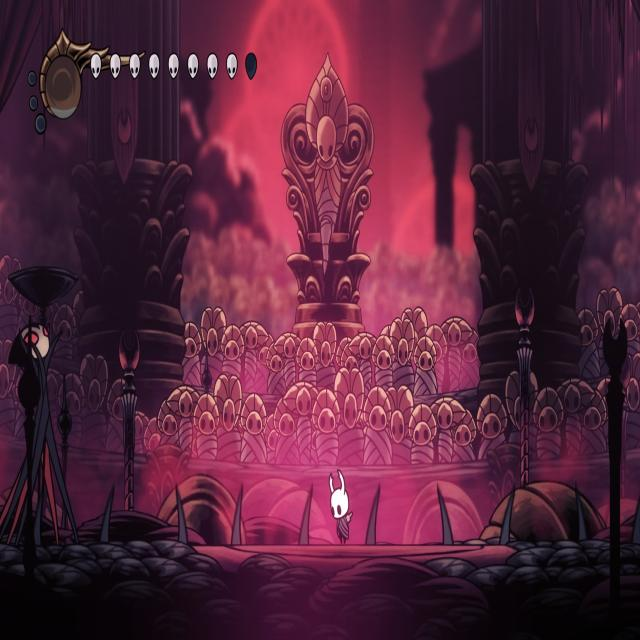Grimm: (0, 311, 78, 544)
Player: (330, 464, 358, 546)
Spikes: (436, 482, 457, 546), (172, 479, 192, 546), (97, 477, 117, 544), (363, 481, 382, 546), (498, 483, 517, 544), (231, 479, 248, 547), (297, 478, 314, 545), (572, 484, 588, 541), (630, 486, 640, 543)
